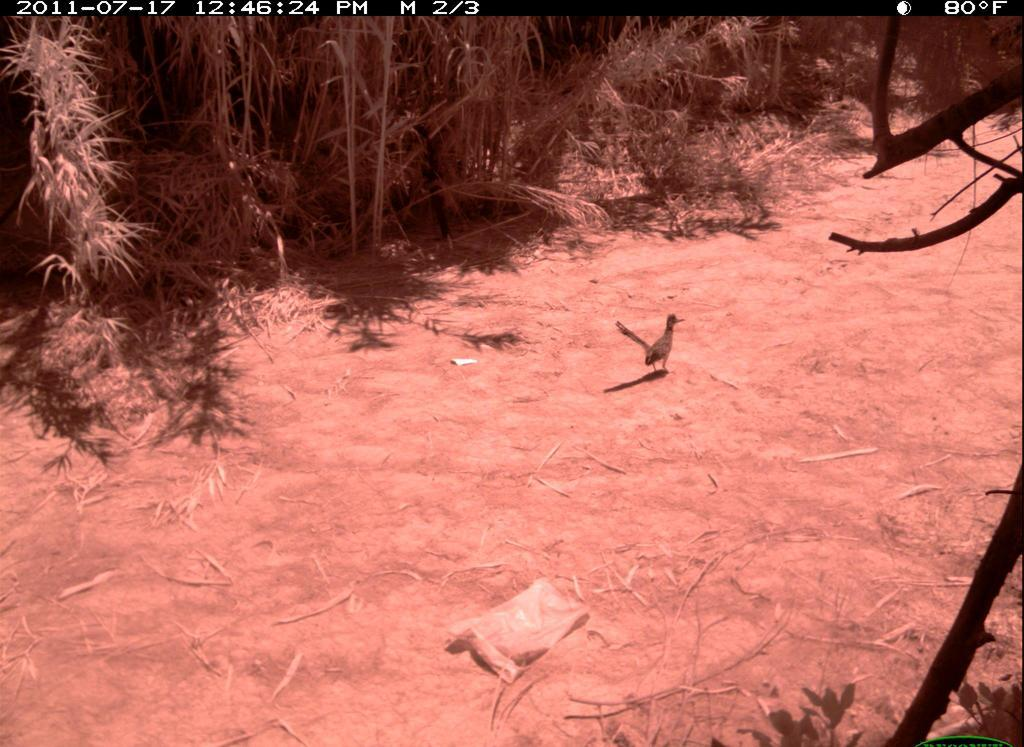bird: (611, 300, 692, 387)
